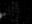person: (1, 12, 7, 19)
